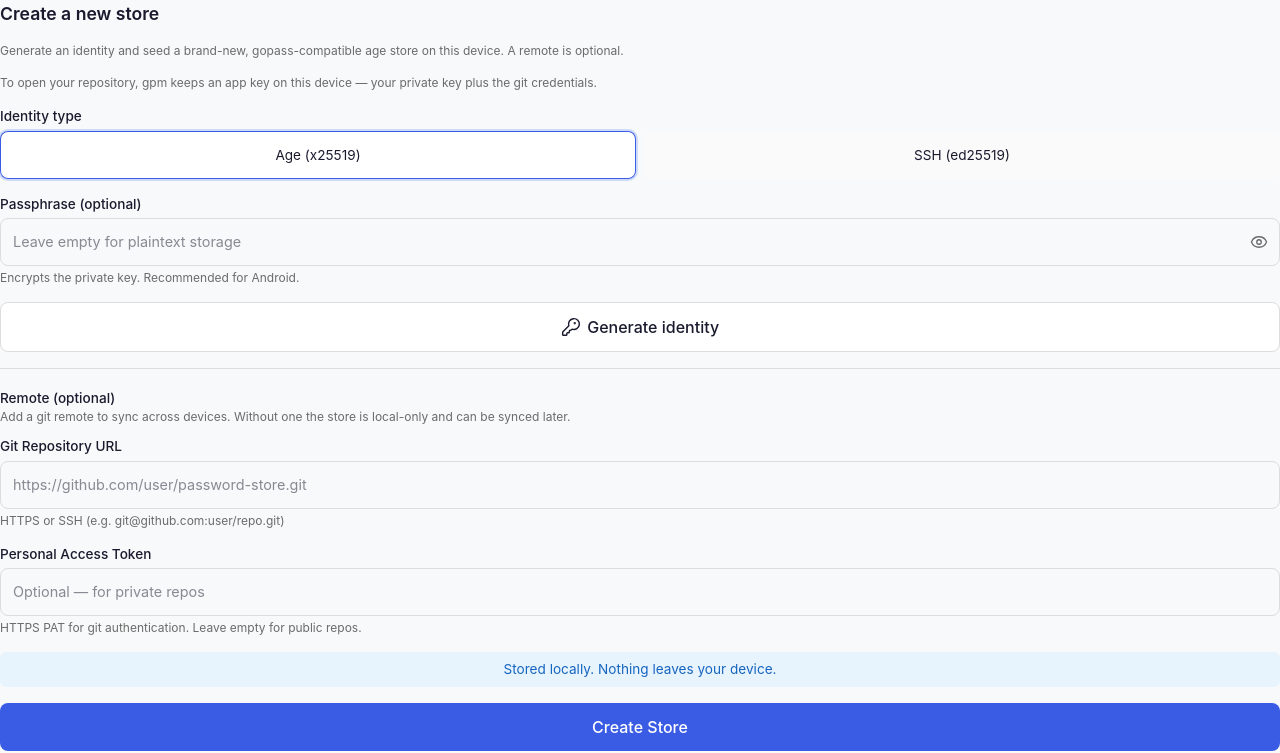
Scenario: CreateFlow › blocks navigation when the first push fails (store is created locally)
Click the button "Generate identity": (640, 327) [0,302,1279,352]
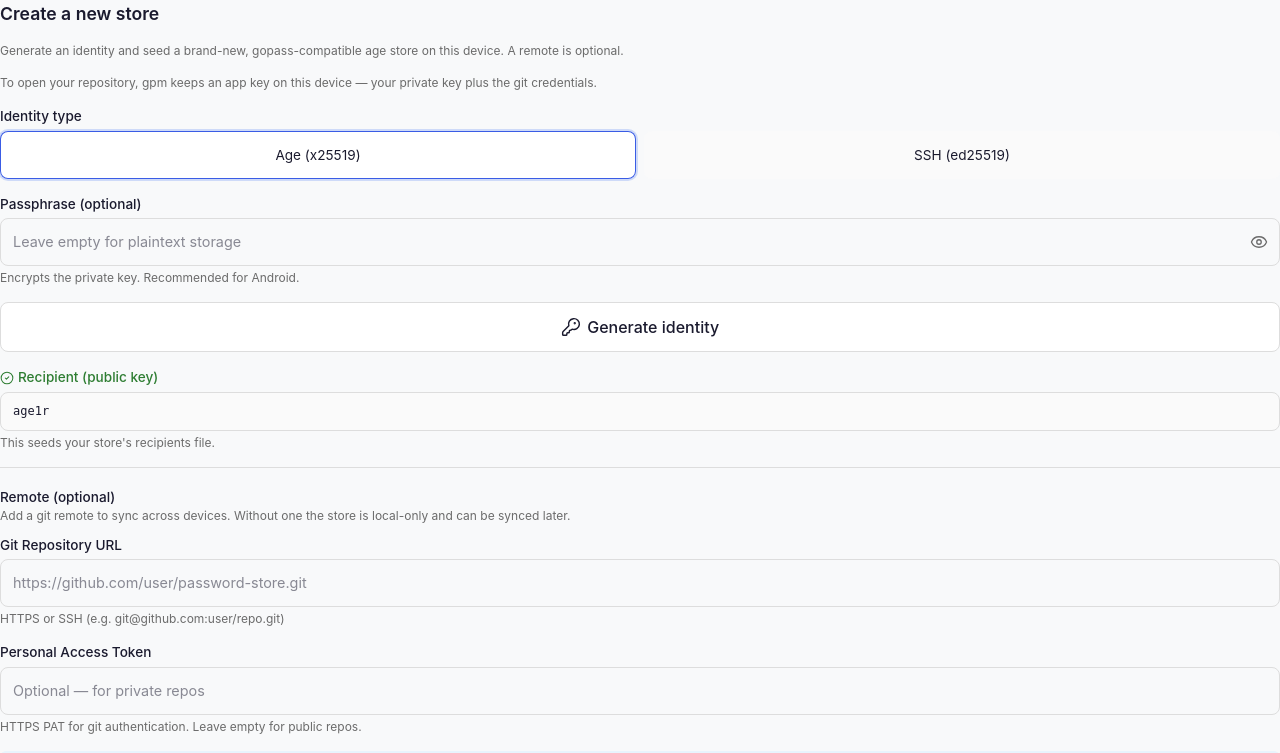
In the field with id "repo-url": (640, 583) [0,559,1279,607], type "https://example.com/r.git"
(page scrolled)
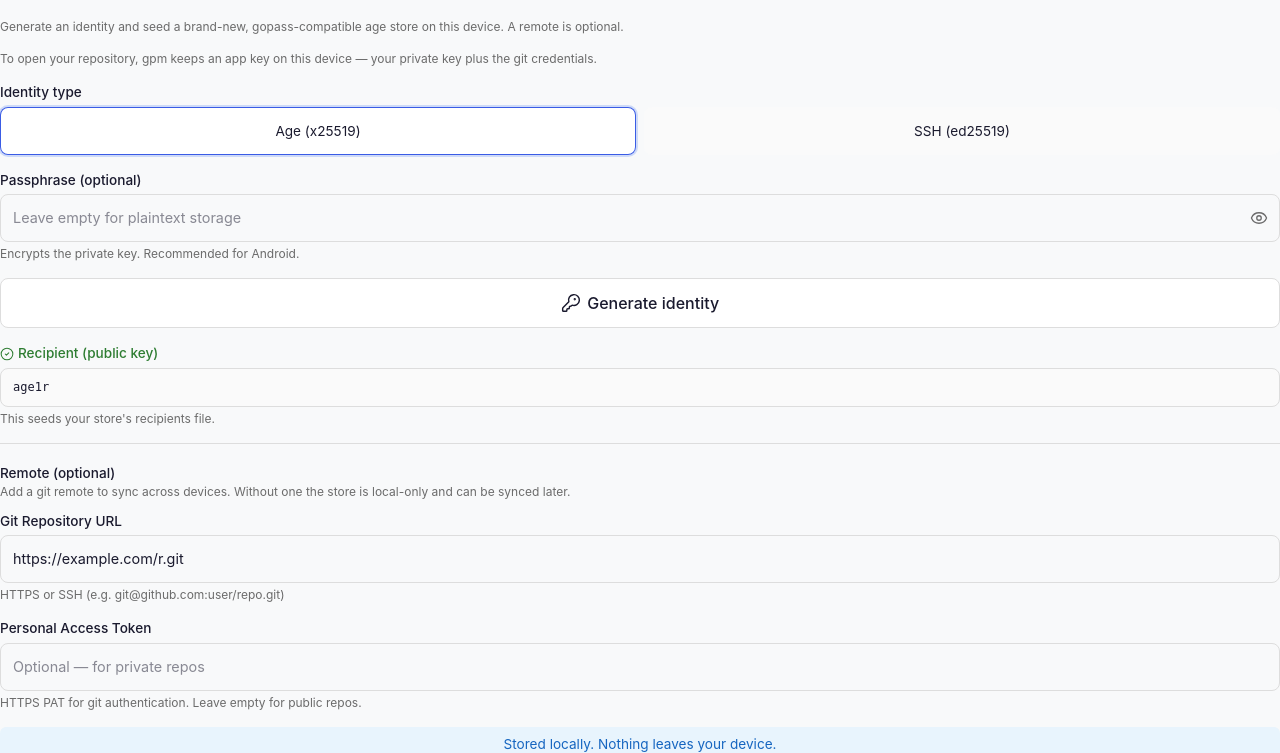
Submit the form
(page scrolled)
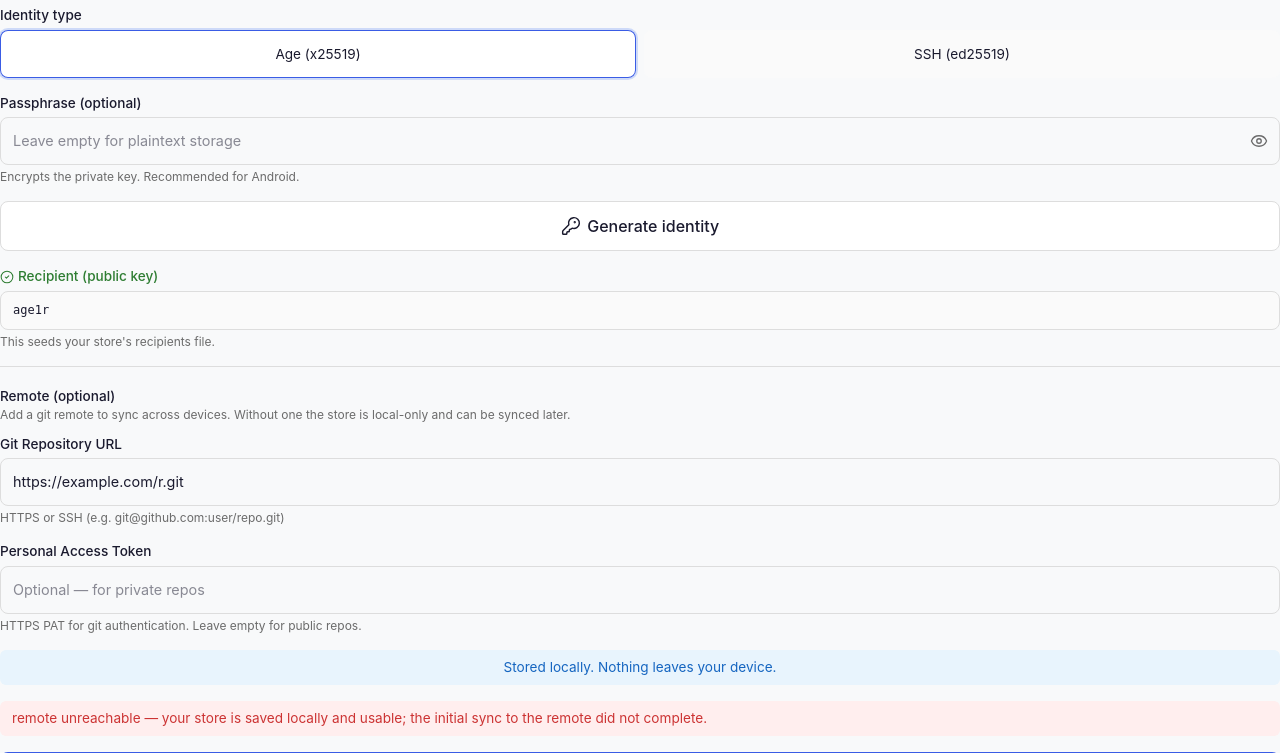
Now the 2nd message shows "remote unreachable", box [12,710,707,726]
Now the 2nd message shows "saved locally", box [12,710,707,726]
